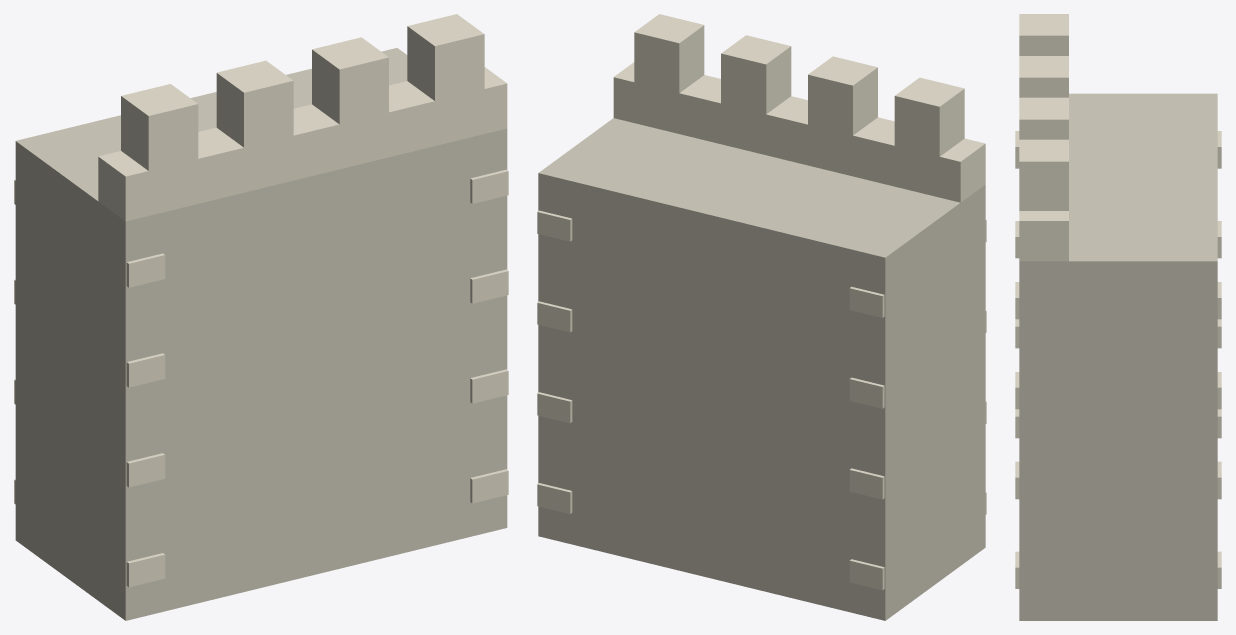
File: curtain-straight-4-m.glb
3 views of the same model, side by side, from view 1: azimuth 30°, elevation 25°; view 2: azimuth 150°, elevation 25°; view 3: azimuth 270°, elevation 25° (orthographic). The views are drawn at different scales.
Visible parts, largest first — view 1: curtain-straight-4m; view 2: curtain-straight-4m; view 3: curtain-straight-4m.
Boxes of the visible parts, <box> form: curtain-straight-4m: <box>14,14,508,620</box>; curtain-straight-4m: <box>537,14,986,620</box>; curtain-straight-4m: <box>1015,14,1221,620</box>.
Size of the model in its own units: 4 by 5 by 2.08.
